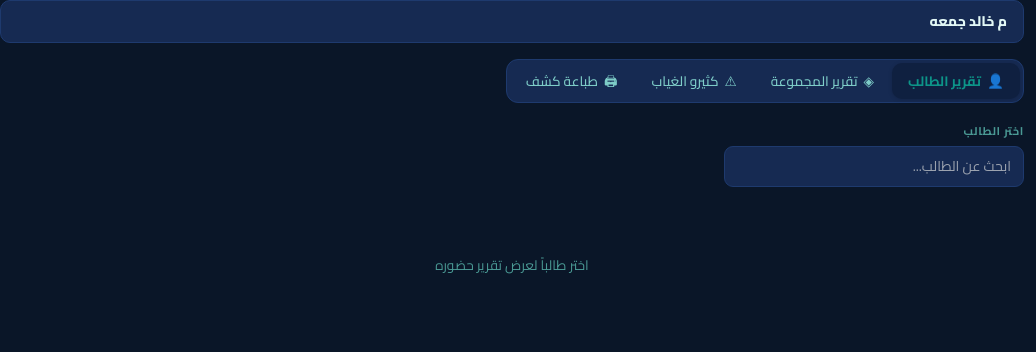
Scenario: AttendanceReports — "طباعة كشف" tab is wired to the existing openGroupSessionReport builder › a group with no recorded sessions shows an honest empty state instead of a fake session list
Click the button "🖨 طباعة كشف": (572, 81) 510,63 -> 634,99
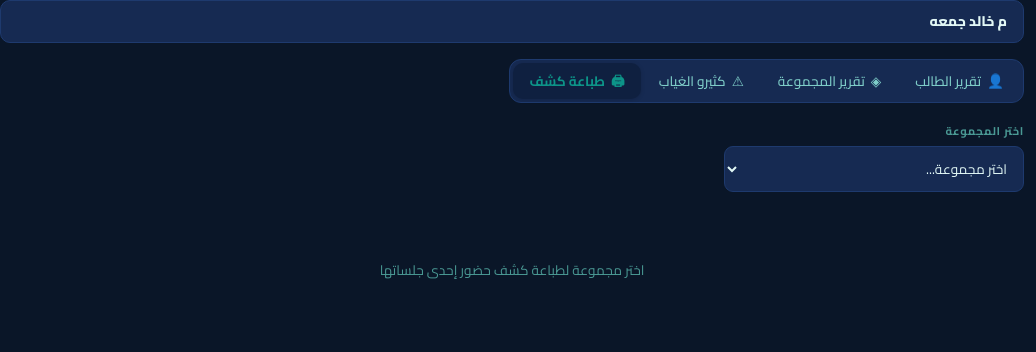
Select "مجموعة ب" in the dropdown showing "اختر مجموعة...": (874, 169) 724,146 -> 1024,192
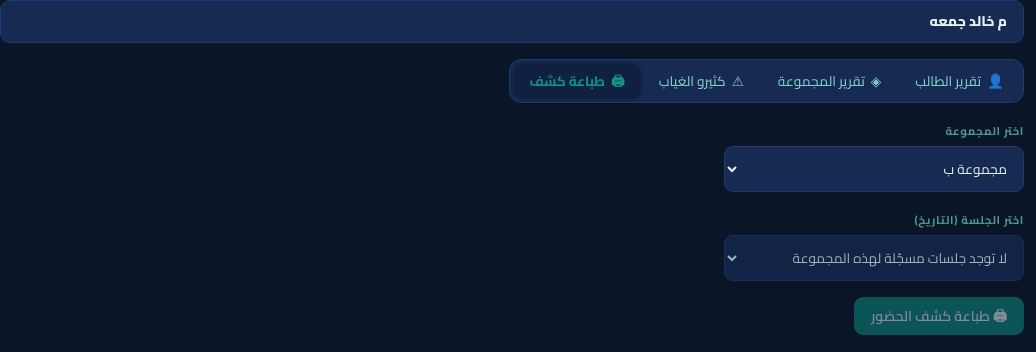
Result: the dropdown showing "لا توجد جلسات مسجّلة لهذه المجموعة" below "اختر الجلسة (التاريخ)" is shown at 724,235 -> 1024,281
